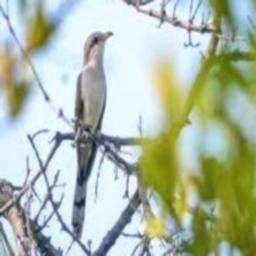Cuckoo: (71, 30, 114, 239)
